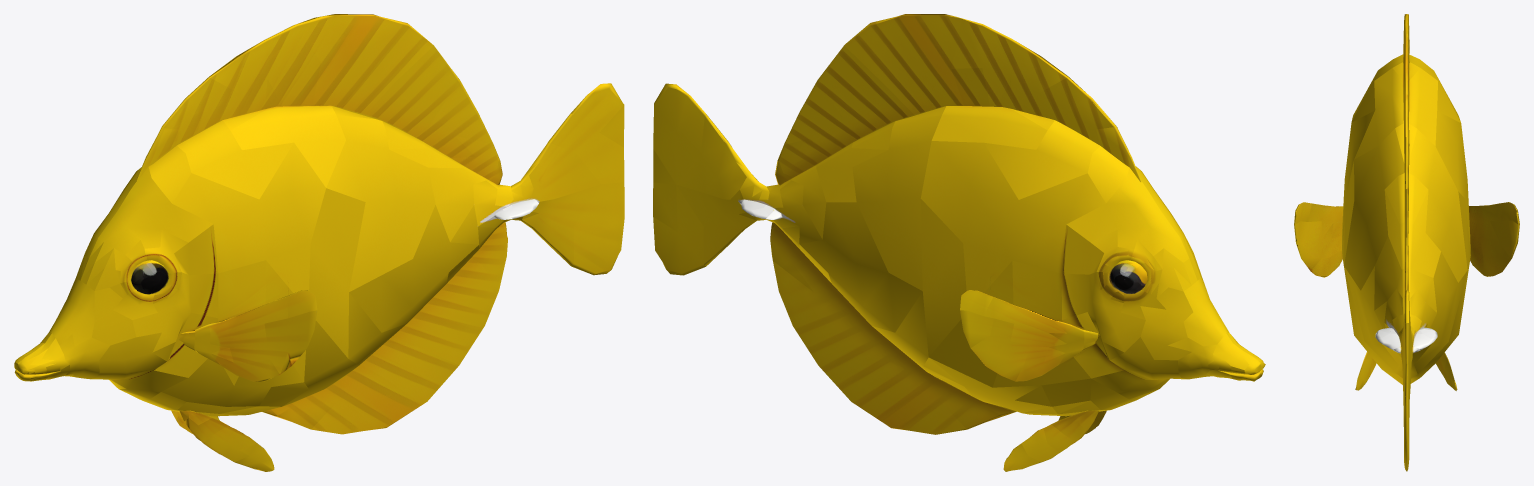
3 renders of one model, left to right at view 1: azimuth 30°, elevation 25°; view 2: azimuth 150°, elevation 25°; view 3: azimuth 270°, elevation 25°, orthographic. The views are drawn at different scales.
Size of the model in its own units: 1 by 0.6738 by 0.3438.
1 material, 1 textured.
